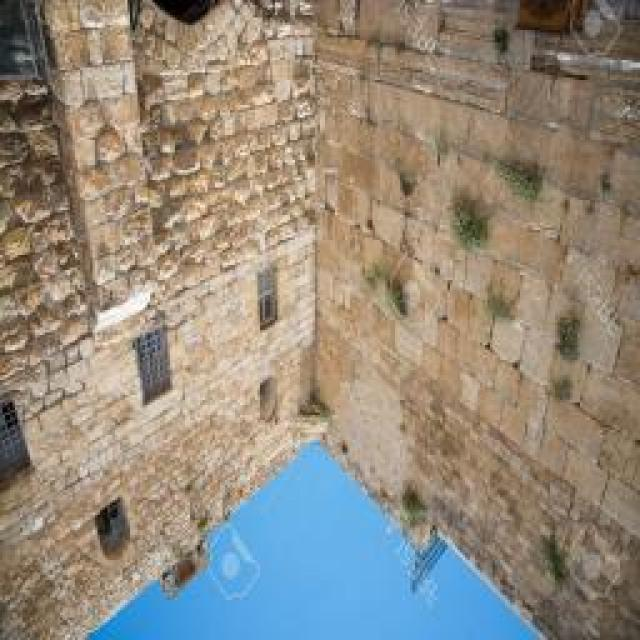Crack: (1, 0, 638, 638)
leak: (85, 433, 548, 638)
